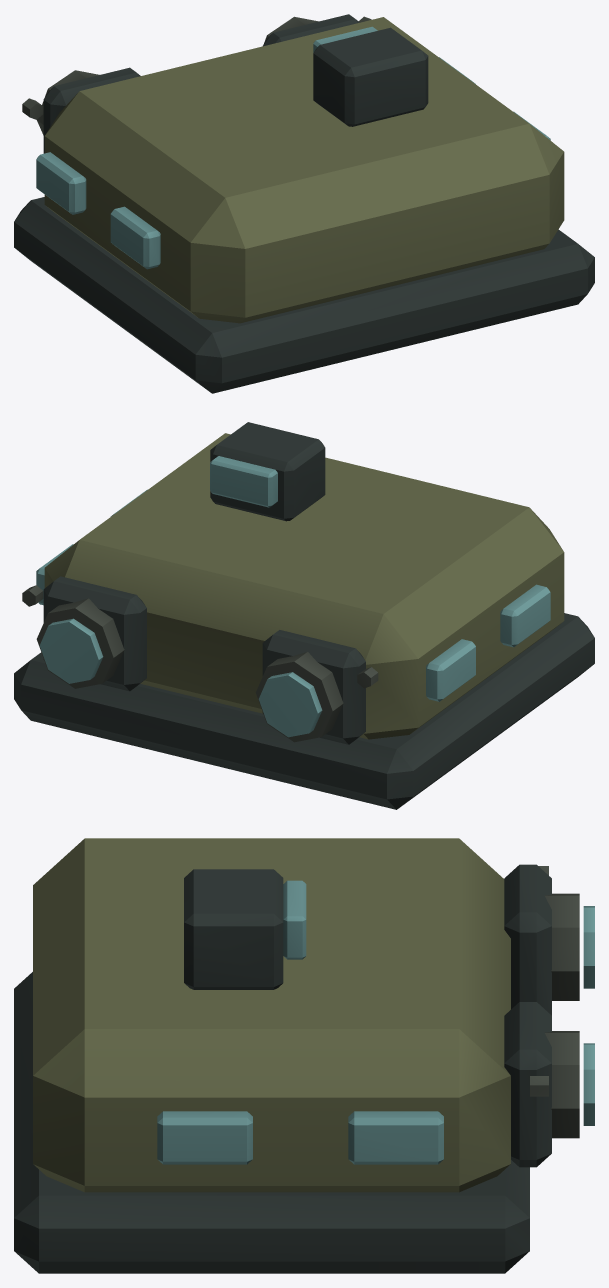
File: head.glb
3 views of the same model, one above another, from view 1: azimuth 30°, elevation 25°; view 2: azimuth 150°, elevation 25°; view 3: azimuth 270°, elevation 25° (orthographic). The views are drawn at different scales.
Parts seen in each view (by area): view 1: Cupola_cast_shell, Cupola_base, Periscope_stalk, Side_vision_block.001, Side_vision_block, Recessed_camera_well, Recessed_camera_well.001; view 2: Cupola_cast_shell, Cupola_base, Periscope_stalk, Recessed_camera_well.001, Recessed_camera_well, Cupola_camera, Cupola_camera.001, Cupola_camera_rim, Cupola_camera_rim.001, Periscope_glass, Side_vision_block.001, Side_vision_block; view 3: Cupola_cast_shell, Cupola_base, Periscope_stalk, Recessed_camera_well.001, Recessed_camera_well, Side_vision_block.003, Side_vision_block.002, Cupola_camera_rim.001, Cupola_camera_rim, Periscope_glass, Cupola_camera, Cupola_camera.001.
Part boxes in pixels (box(x1,y1,x2,y2)): Cupola_cast_shell: box(44, 17, 564, 323); Cupola_base: box(14, 197, 594, 393); Periscope_stalk: box(313, 27, 428, 126); Side_vision_block.001: box(110, 206, 160, 269); Side_vision_block: box(36, 152, 86, 214); Recessed_camera_well: box(43, 67, 140, 153); Recessed_camera_well.001: box(263, 14, 359, 46); Cupola_cast_shell: box(44, 433, 564, 739); Cupola_base: box(14, 613, 594, 809); Periscope_stalk: box(210, 422, 325, 521); Recessed_camera_well.001: box(43, 576, 146, 691); Recessed_camera_well: box(262, 630, 365, 744); Cupola_camera: box(39, 618, 103, 683); Cupola_camera.001: box(258, 672, 322, 737); Cupola_camera_rim: box(36, 598, 124, 688); Cupola_camera_rim.001: box(255, 651, 343, 742); Periscope_glass: box(210, 456, 277, 507); Side_vision_block.001: box(500, 584, 550, 647); Side_vision_block: box(426, 639, 475, 701); Cupola_cast_shell: box(33, 838, 510, 1192); Cupola_base: box(14, 972, 529, 1273); Periscope_stalk: box(184, 869, 283, 989); Recessed_camera_well.001: box(504, 1002, 551, 1167); Recessed_camera_well: box(504, 864, 551, 1015); Side_vision_block.003: box(157, 1111, 252, 1164); Side_vision_block.002: box(348, 1111, 443, 1164); Cupola_camera_rim.001: box(545, 893, 579, 1000); Cupola_camera_rim: box(545, 1031, 579, 1138); Periscope_glass: box(283, 880, 306, 959); Cupola_camera: box(583, 1043, 594, 1125); Cupola_camera.001: box(583, 906, 594, 988).
Size of the model in its own units: 0.316 by 0.173 by 0.304.
